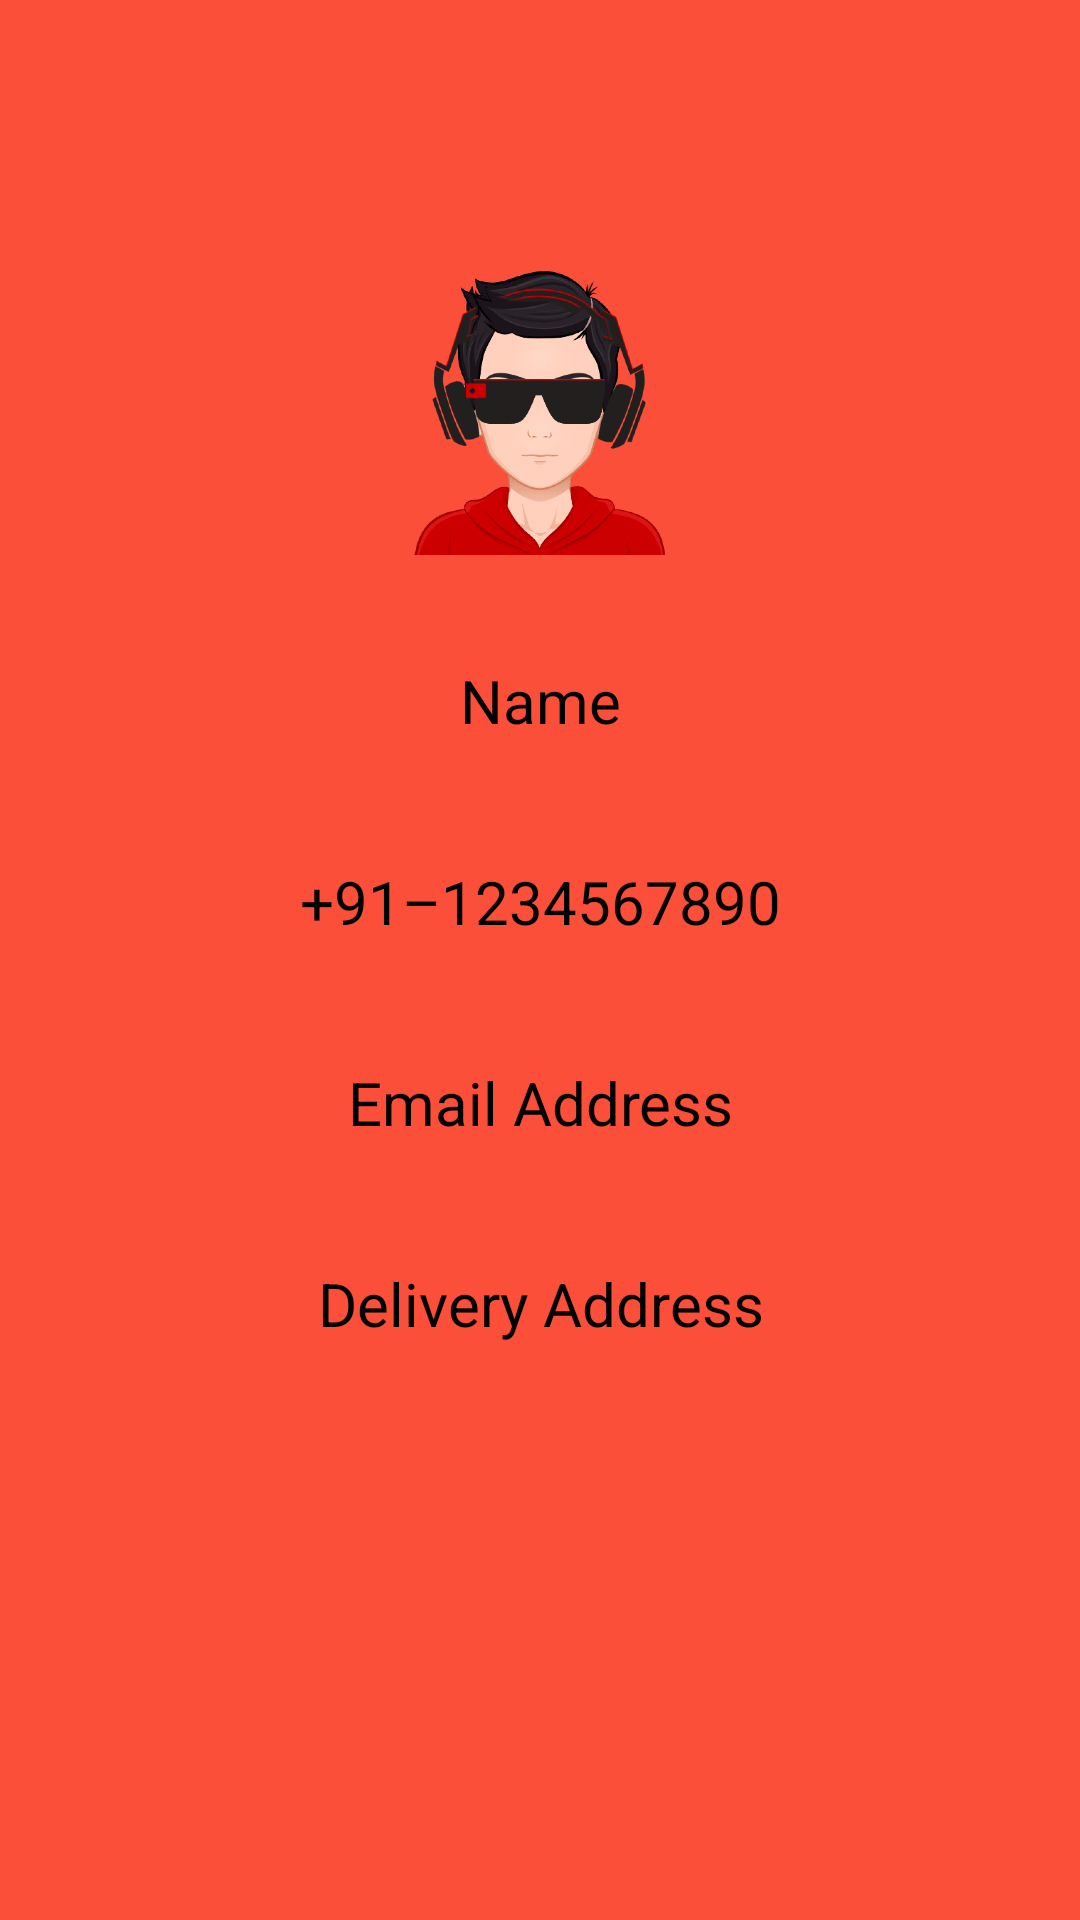

Where to tap for icons on this 1080×1920 app screen, as (x=x, y=y):
current user: (x=539, y=413)
